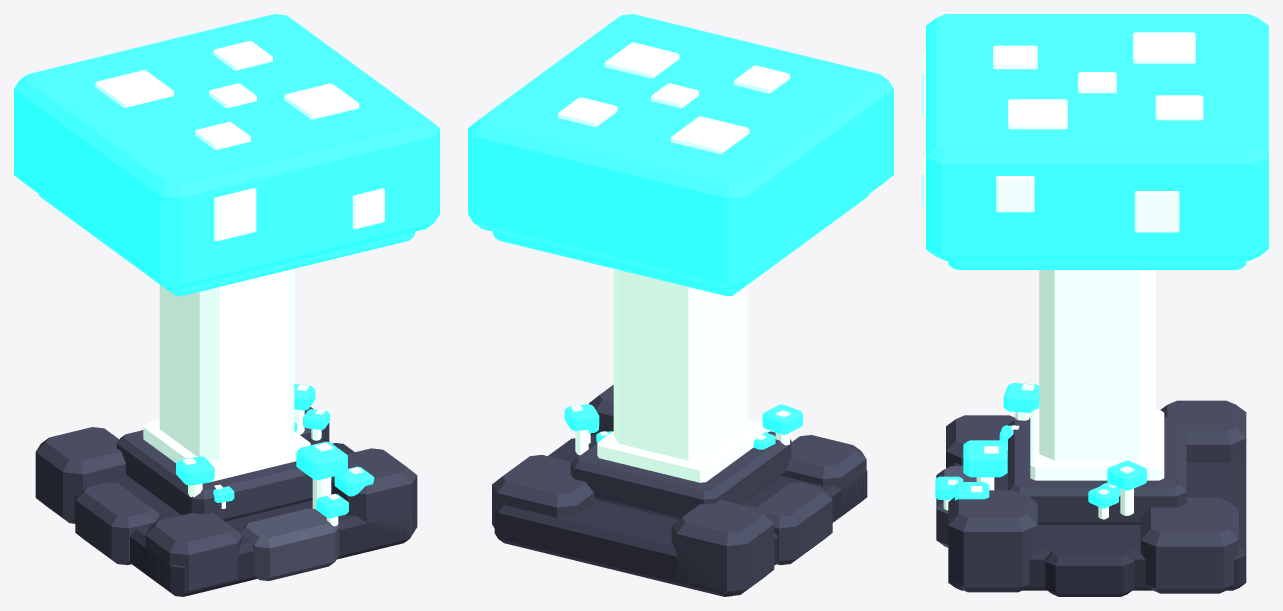
Rendered from Bogheart_GiantMushroom.glb.
3 renders of one model, left to right at view 1: azimuth 30°, elevation 25°; view 2: azimuth 150°, elevation 25°; view 3: azimuth 270°, elevation 25°, orthographic. The views are drawn at different scales.
Visible parts, largest first — view 1: GiantMushroom_cap_body_Glow, GiantMushroom_stem_Glow, GiantMushroom_base_collar, GiantMushroom_base_slab, GiantMushroom_base_chunk_2, GiantMushroom_base_chunk_0, GiantMushroom_base_chunk_4, GiantMushroom_base_chunk_3, GiantMushroom_base_chunk_5, GiantMushroom_stem_ring_Glow, GiantMushroom_cap_underside_Glow, GiantMushroom_cap_spot_front_0_Glow (+10 smaller); view 2: GiantMushroom_cap_body_Glow, GiantMushroom_stem_Glow, GiantMushroom_base_slab, GiantMushroom_base_collar, GiantMushroom_base_chunk_0, GiantMushroom_base_chunk_1, GiantMushroom_base_chunk_5, GiantMushroom_base_chunk_2, GiantMushroom_stem_ring_Glow, GiantMushroom_cap_underside_Glow, GiantMushroom_cap_spot_top_0_Glow, GiantMushroom_cap_spot_top_2_Glow (+6 smaller); view 3: GiantMushroom_cap_body_Glow, GiantMushroom_stem_Glow, GiantMushroom_base_chunk_1, GiantMushroom_base_chunk_3, GiantMushroom_base_collar, GiantMushroom_base_slab, GiantMushroom_base_chunk_6, GiantMushroom_base_chunk_0, GiantMushroom_stem_ring_Glow, GiantMushroom_cap_underside_Glow, GiantMushroom_cap_spot_top_0_Glow, GiantMushroom_cap_spot_side_0_Glow (+13 smaller).
Part boxes in pixels (bbox=[...]): GiantMushroom_cap_body_Glow: bbox=[14, 14, 439, 288]; GiantMushroom_stem_Glow: bbox=[159, 269, 294, 460]; GiantMushroom_base_collar: bbox=[116, 430, 312, 521]; GiantMushroom_base_slab: bbox=[72, 440, 411, 596]; GiantMushroom_base_chunk_2: bbox=[145, 512, 242, 592]; GiantMushroom_base_chunk_0: bbox=[35, 427, 130, 523]; GiantMushroom_base_chunk_4: bbox=[240, 508, 339, 580]; GiantMushroom_base_chunk_3: bbox=[331, 448, 417, 536]; GiantMushroom_base_chunk_5: bbox=[75, 482, 160, 565]; GiantMushroom_stem_ring_Glow: bbox=[143, 419, 310, 481]; GiantMushroom_cap_underside_Glow: bbox=[39, 194, 414, 296]; GiantMushroom_cap_spot_front_0_Glow: bbox=[214, 188, 256, 241]; GiantMushroom_cap_body_Glow: bbox=[468, 14, 893, 288]; GiantMushroom_stem_Glow: bbox=[613, 269, 748, 460]; GiantMushroom_base_slab: bbox=[494, 434, 867, 596]; GiantMushroom_base_collar: bbox=[570, 431, 791, 520]; GiantMushroom_base_chunk_0: bbox=[671, 499, 774, 595]; GiantMushroom_base_chunk_1: bbox=[492, 455, 596, 527]; GiantMushroom_base_chunk_5: bbox=[756, 482, 832, 565]; GiantMushroom_base_chunk_2: bbox=[781, 435, 866, 509]; GiantMushroom_stem_ring_Glow: bbox=[597, 419, 764, 482]; GiantMushroom_cap_underside_Glow: bbox=[493, 194, 868, 296]; GiantMushroom_cap_spot_top_0_Glow: bbox=[670, 116, 749, 153]; GiantMushroom_cap_spot_top_2_Glow: bbox=[604, 42, 679, 78]; GiantMushroom_cap_body_Glow: bbox=[926, 14, 1268, 260]; GiantMushroom_stem_Glow: bbox=[1039, 270, 1155, 460]; GiantMushroom_base_chunk_1: bbox=[1140, 497, 1238, 593]; GiantMushroom_base_chunk_3: bbox=[948, 490, 1037, 592]; GiantMushroom_base_collar: bbox=[1008, 417, 1186, 524]; GiantMushroom_base_slab: bbox=[948, 459, 1246, 590]; GiantMushroom_base_chunk_6: bbox=[1045, 539, 1134, 596]; GiantMushroom_base_chunk_0: bbox=[1160, 400, 1246, 462]; GiantMushroom_stem_ring_Glow: bbox=[1030, 409, 1164, 480]; GiantMushroom_cap_underside_Glow: bbox=[948, 261, 1246, 269]; GiantMushroom_cap_spot_top_0_Glow: bbox=[1133, 32, 1195, 63]; GiantMushroom_cap_spot_side_0_Glow: bbox=[1134, 191, 1179, 232].
Bounding box in the file's own units: 2.32 × 3.36 × 2.32.
